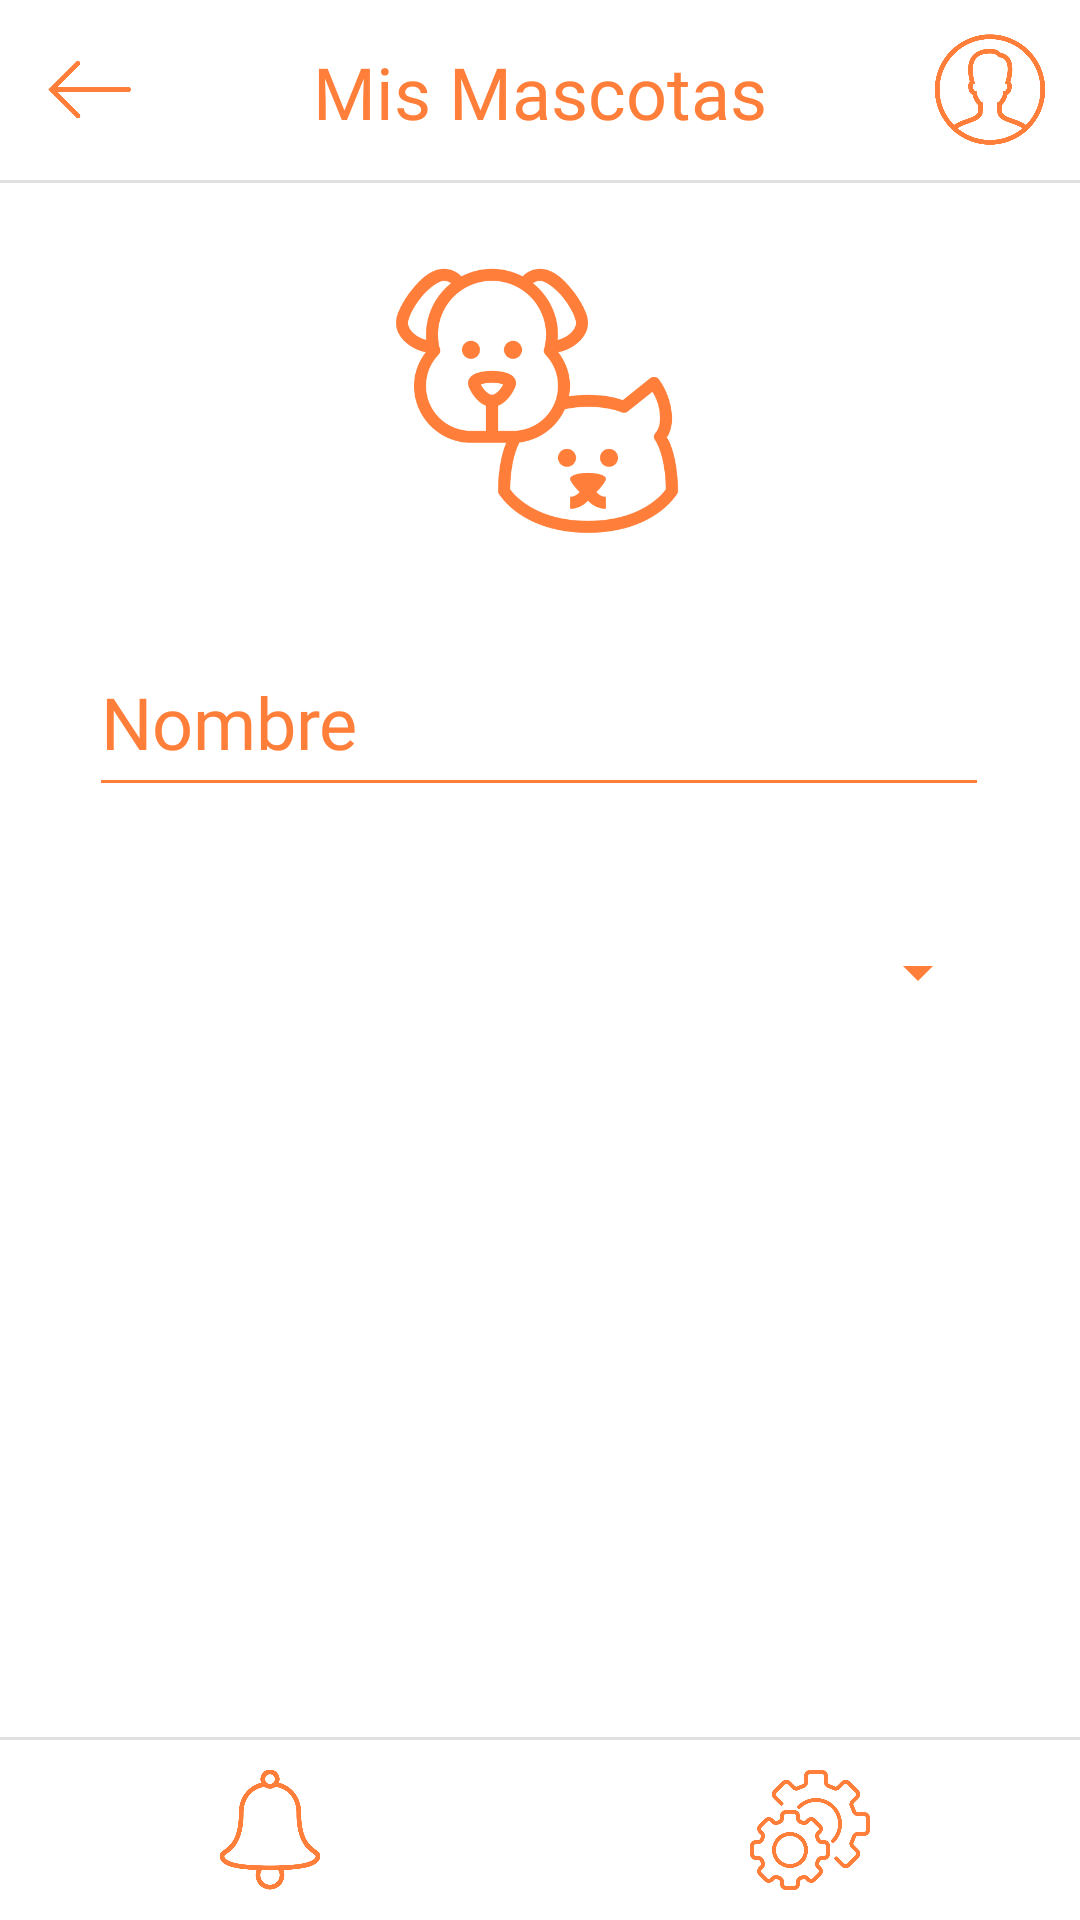

Icon click points for this 1080*1920 phone screenshot, format (x,y):
boton notificaciones: (270,1830)
boton perfil: (990,89)
pets: (537,400)
